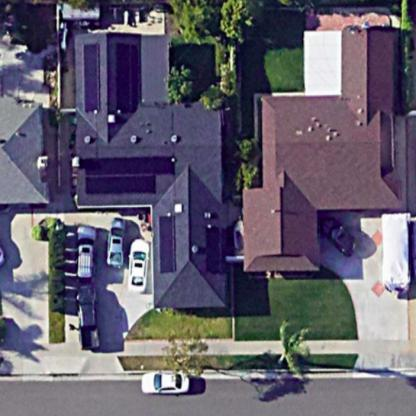car: (66, 283, 110, 354), (314, 215, 356, 257), (140, 371, 194, 398), (70, 224, 93, 284), (104, 211, 127, 271), (127, 238, 149, 296)
solar_panel: (74, 149, 177, 197), (107, 40, 136, 113), (149, 206, 179, 276), (82, 41, 103, 111), (205, 220, 224, 282)
